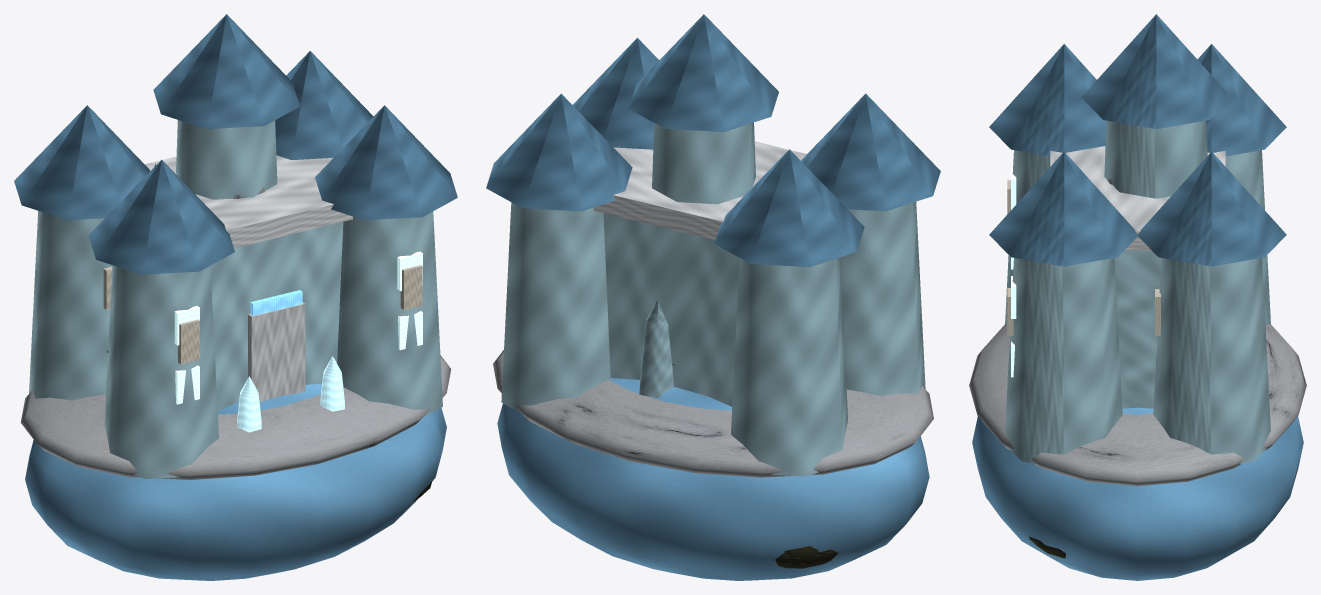
The model's file is st2_snow.glb.
The picture shows the model from 3 angles, left to right: view 1: azimuth 30°, elevation 25°; view 2: azimuth 150°, elevation 25°; view 3: azimuth 270°, elevation 25°; orthographic projection. The views are drawn at different scales.
Parts seen in each view (by area): view 1: Glassy_Ice_Palace_Mesh, Floating_Snow_Island_Mesh; view 2: Glassy_Ice_Palace_Mesh, Floating_Snow_Island_Mesh; view 3: Glassy_Ice_Palace_Mesh, Floating_Snow_Island_Mesh.
Part boxes in pixels (box(x1,y1,x2,y2)): Glassy_Ice_Palace_Mesh: box(14, 14, 457, 478); Floating_Snow_Island_Mesh: box(20, 163, 451, 580); Glassy_Ice_Palace_Mesh: box(486, 14, 940, 476); Floating_Snow_Island_Mesh: box(493, 301, 933, 580); Glassy_Ice_Palace_Mesh: box(989, 14, 1286, 463); Floating_Snow_Island_Mesh: box(969, 324, 1306, 580).
Size of the model in its own units: 2.96 by 3.81 by 2.2.
12 materials, 12 textured.
